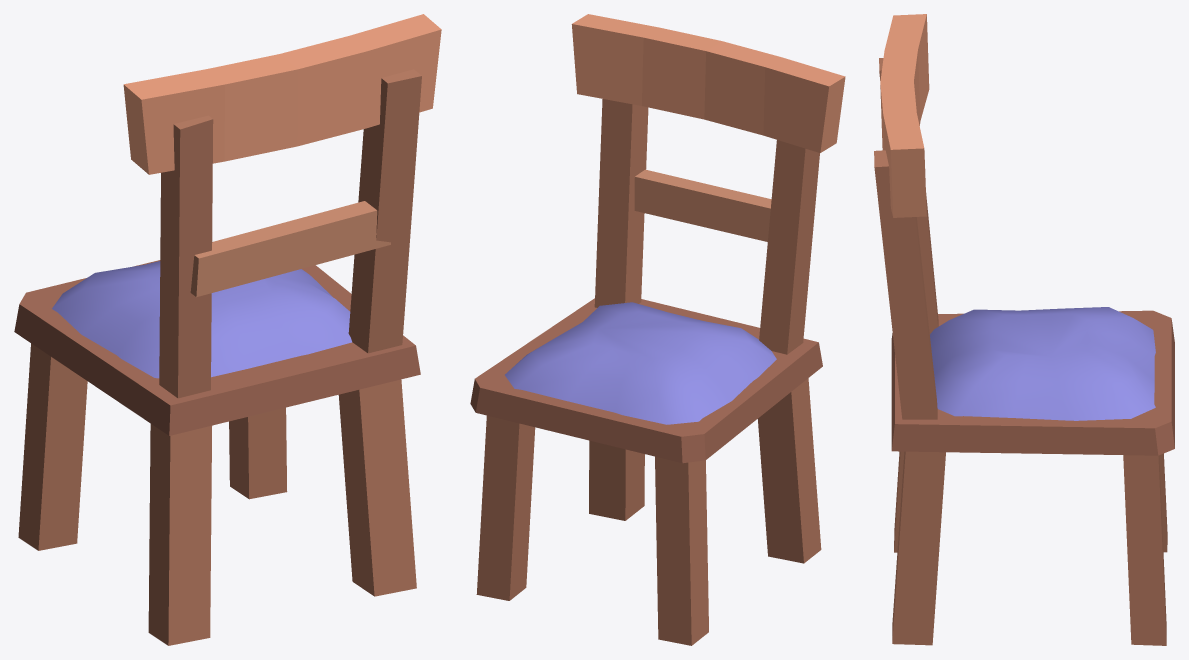
The model's file is chair.fbx.
3 renders of one model, left to right at view 1: azimuth 30°, elevation 25°; view 2: azimuth 150°, elevation 25°; view 3: azimuth 270°, elevation 25°, orthographic. The views are drawn at different scales.
Visible parts, largest first — view 1: Cube.017; view 2: Cube.017; view 3: Cube.017.
Boxes of the visible parts, x1,y1,x2,y2 form: Cube.017: (14,14,441,645); Cube.017: (470,14,845,645); Cube.017: (874,14,1174,645).
Bounding box in the file's own units: 79.23 × 141 × 75.64.
